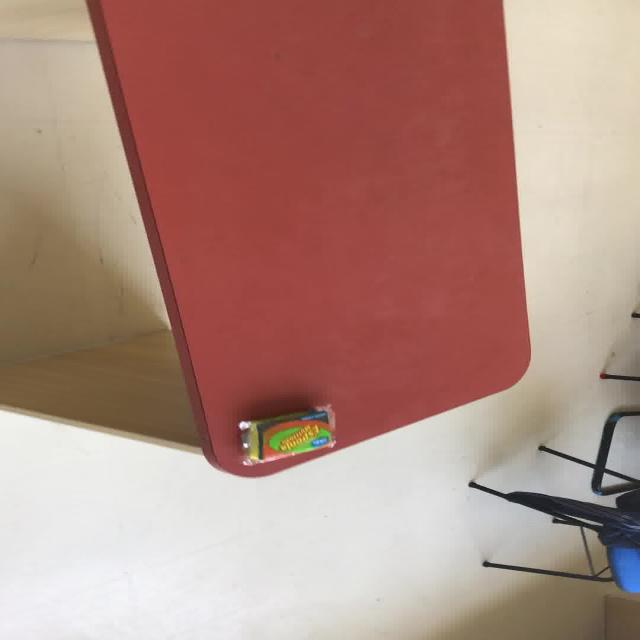sponge: (236, 404, 336, 463)
